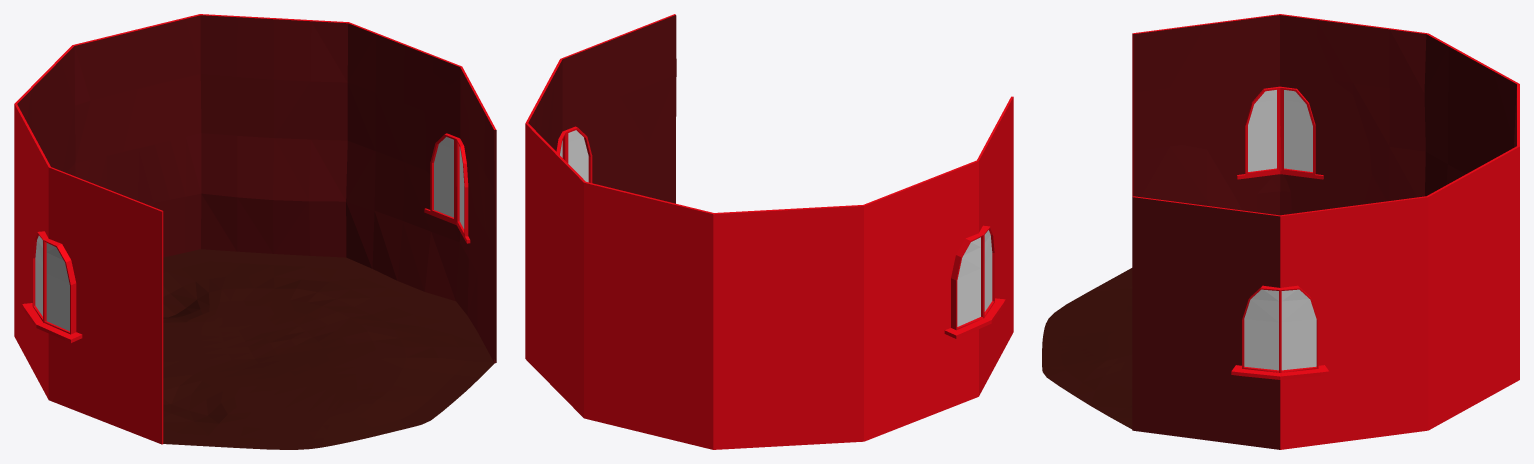
Rendered from Torre Andar 1.dae.
3 renders of one model, left to right at view 1: azimuth 30°, elevation 25°; view 2: azimuth 150°, elevation 25°; view 3: azimuth 270°, elevation 25°, orthographic.
Visible parts, largest first — view 1: Torre.002, Chao, Torre.001; view 2: Torre.001, Torre.002; view 3: Torre.001, Torre.002, Chao.
Part boxes in pixels (x1,y1,x2,y2): Torre.002: [17, 15, 494, 361]; Chao: [163, 249, 494, 449]; Torre.001: [14, 14, 496, 444]; Torre.001: [525, 14, 1013, 449]; Torre.002: [528, 15, 676, 203]; Torre.001: [1132, 14, 1519, 449]; Torre.002: [1133, 15, 1516, 215]; Chao: [1042, 268, 1132, 429].
Bounding box in the file's own units: 42.36 × 39.9 × 22.82.
